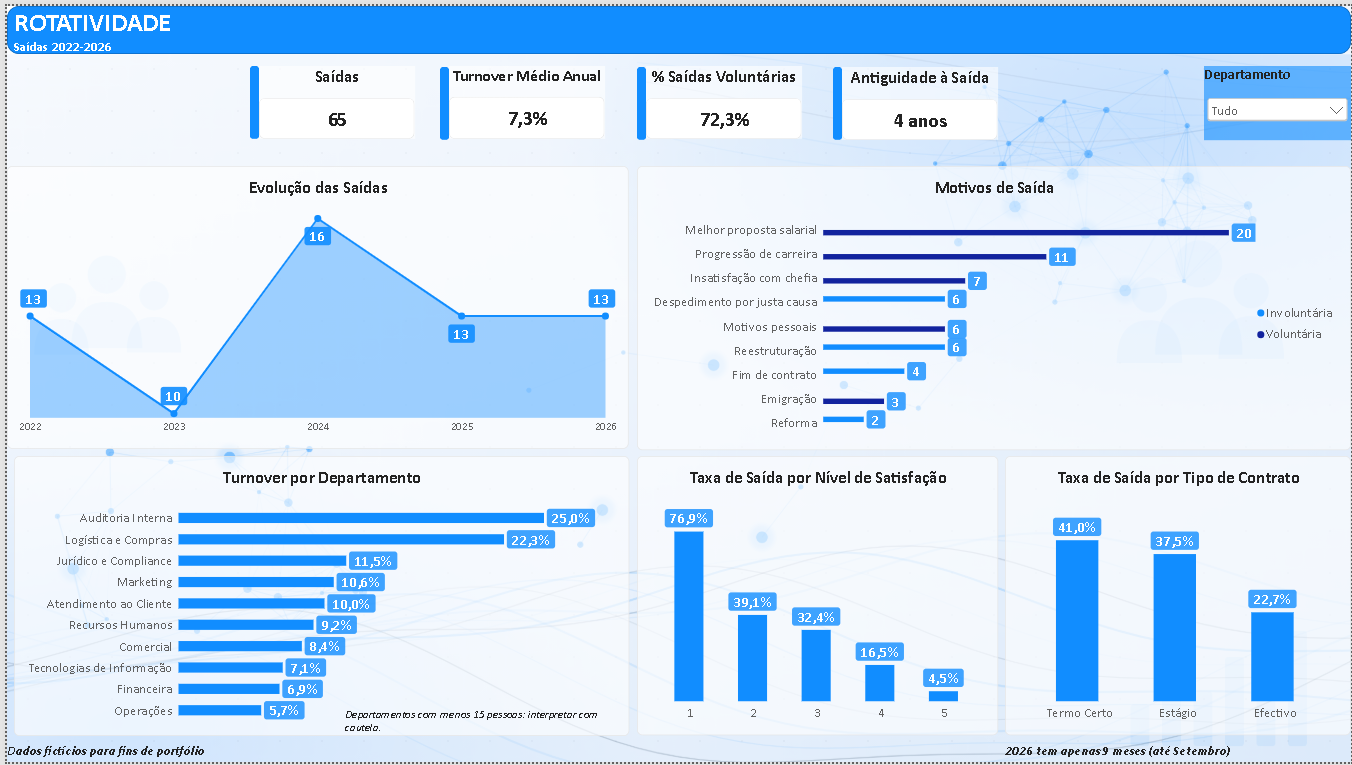

What the dashboard file says about the page in this screenshot:
{"tool":"powerbi","page":{"name":"Turnover","canvas":[1920,1080],"ordinal":1},"visuals":[{"type":"image","box":[0,0,1919.6,1080],"z":0},{"type":"shape","box":[0,0,1920,68.6],"z":1000},{"type":"textbox","box":[9.4,0,1894,68.5],"z":2000},{"type":"cardVisual","title":"Saídas","fields":{"Data":["Medidas.Saidas"]},"box":[360,85.7,222.9,104.3],"z":3000},{"type":"cardVisual","title":"Turnover Médio Anual","fields":{"Data":["Medidas.Taxa Rotatividade Media Anual"]},"box":[631.4,85.7,222.9,104.3],"z":5000},{"type":"cardVisual","title":"% Saídas Voluntárias","fields":{"Data":["Medidas.% Saidas Voluntarias"]},"box":[912.9,85.7,222.9,104.3],"z":7000},{"type":"cardVisual","title":"Antiguidade à Saída","fields":{"Data":["Medidas.Antiguidade a Saida"]},"box":[1192.9,87.1,222.9,104.3],"z":9000},{"type":"slicer","title":"Departamento","fields":{"Values":["Departamentos.Departamento"]},"box":[1710,85.7,210,105.7],"z":11000},{"type":"clusteredColumnChart","title":"Taxa de Saída por Nível de Satisfação","fields":{"Y":["Medidas.% Que Saiu"],"Category":["Colaboradores.Satisfacao_1a5"]},"box":[900,643.4,515.8,399],"z":15000},{"type":"textbox","box":[0,1051.8,302.2,28.2],"z":16000},{"type":"lineChart","title":"Evolução das Saídas","fields":{"Category":["Calendario.Ano"],"Y":["Medidas.Saidas"]},"box":[0,228.4,887.9,404.3],"z":16001},{"type":"clusteredBarChart","title":"Motivos de Saída","fields":{"Category":["Colaboradores.Motivo_Saida"],"Y":["Medidas.Saidas"],"Series":["Colaboradores.Tipo_Saida"]},"box":[900,228.4,1019.6,405.7],"z":16002},{"type":"clusteredBarChart","title":"Turnover por Departamento","fields":{"Y":["Medidas.Taxa Rotatividade Media Anual"],"Category":["Departamentos.Departamento"]},"box":[10,642.9,878.6,400],"z":16003},{"type":"clusteredColumnChart","title":"Taxa de Saída por Tipo de Contrato","fields":{"Y":["Medidas.% Que Saiu"],"Category":["Colaboradores.Tipo_Contrato"]},"box":[1425.2,643.4,494.3,399],"z":16004},{"type":"textbox","box":[1425.2,1051.8,494.3,28.2],"z":16005},{"type":"textbox","box":[482.2,1000.7,405.7,41.6],"z":16006},{"type":"shape","box":[347.1,85.7,12.9,104.3],"z":16007},{"type":"shape","box":[618.6,87.1,12.9,104.3],"z":16008},{"type":"shape","box":[900,87.1,12.9,104.3],"z":16009},{"type":"shape","box":[1180,87.1,12.9,104.3],"z":16010}]}

Visuals, with their boxes in screenshot pixels (x1, y1, x2, y2), scaled from the page's 1920x1080 canvas onto the 1352x765 screenshot:
image: 0/0/1351/764
shape: 0/0/1351/49
textbox: 7/0/1340/49
"Saídas" cardVisual: 254/61/410/135
"Turnover Médio Anual" cardVisual: 445/61/602/135
"% Saídas Voluntárias" cardVisual: 643/61/800/135
"Antiguidade à Saída" cardVisual: 840/62/997/136
"Departamento" slicer: 1204/61/1351/136
"Taxa de Saída por Nível de Satisfação" clusteredColumnChart: 634/456/997/738
textbox: 0/745/213/764
"Evolução das Saídas" lineChart: 0/162/625/448
"Motivos de Saída" clusteredBarChart: 634/162/1351/449
"Turnover por Departamento" clusteredBarChart: 7/455/626/739
"Taxa de Saída por Tipo de Contrato" clusteredColumnChart: 1004/456/1351/738
textbox: 1004/745/1351/764
textbox: 340/709/625/738
shape: 244/61/254/135
shape: 436/62/445/136
shape: 634/62/643/136
shape: 831/62/840/136
